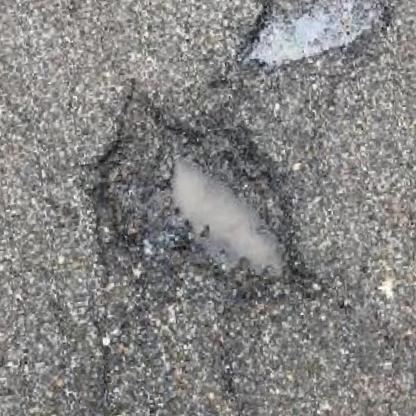pothole: (94, 100, 304, 311), (232, 0, 397, 67)
